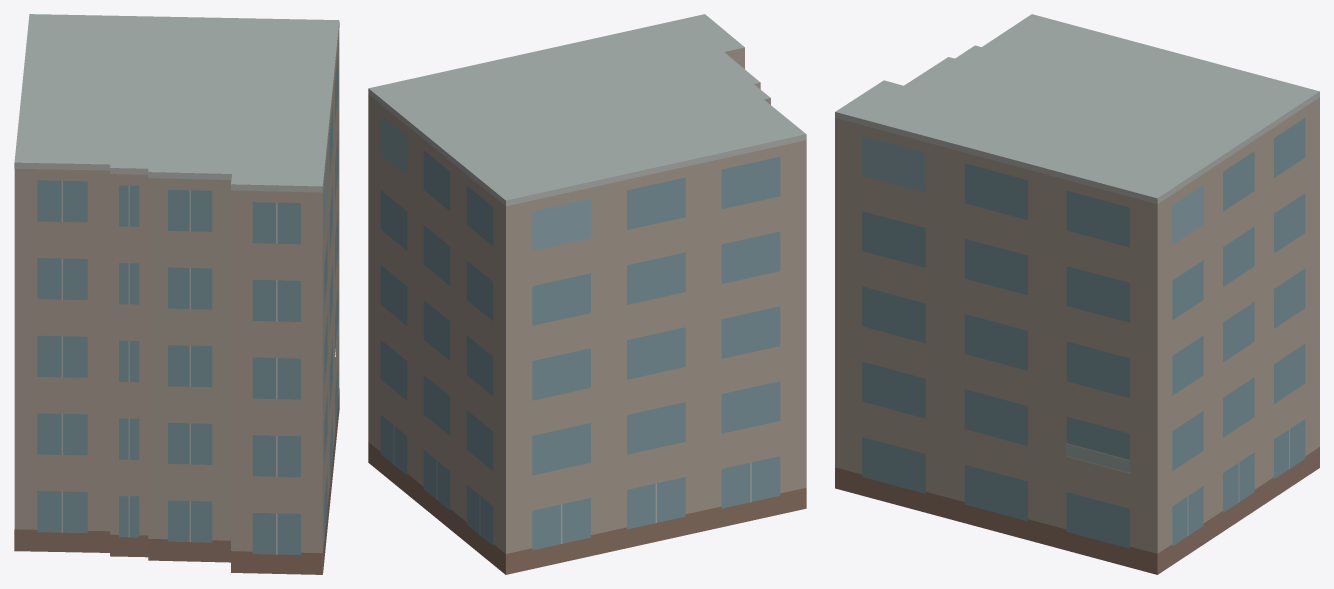
Rendered from survey-upis-32854223.glb.
The picture shows the model from 3 angles, left to right: view 1: azimuth 30°, elevation 25°; view 2: azimuth 150°, elevation 25°; view 3: azimuth 270°, elevation 25°; orthographic projection. The views are drawn at different scales.
Parts seen in each view (by area): view 1: survey-upis-32854223.tmp; view 2: survey-upis-32854223.tmp; view 3: survey-upis-32854223.tmp.
Boxes of the visible parts, left/top/right/bottom form: survey-upis-32854223.tmp: left=14, top=14, right=339, bottom=574; survey-upis-32854223.tmp: left=368, top=14, right=806, bottom=574; survey-upis-32854223.tmp: left=835, top=14, right=1319, bottom=574.
Bounding box in the file's own units: 16.39 × 15.6 × 18.21.
